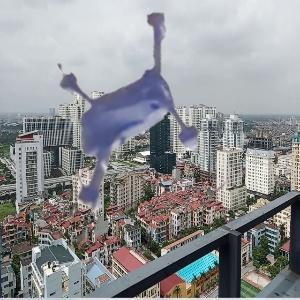drone: (14, 31, 241, 258)
